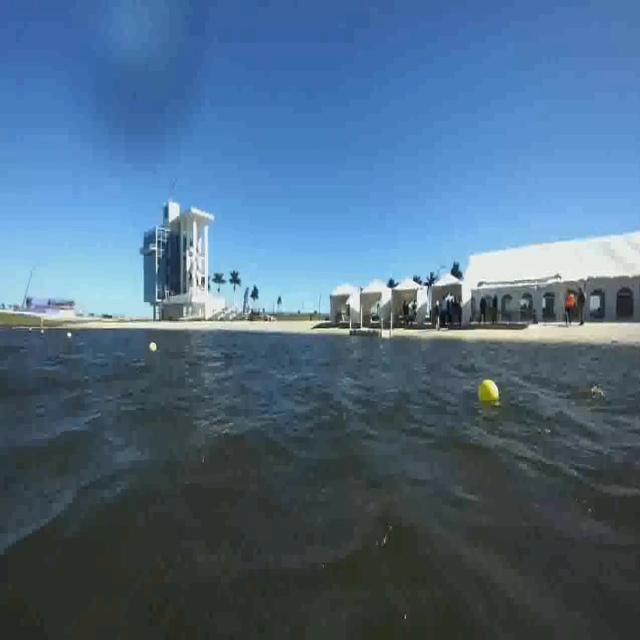yellow-buoy: (479, 377, 500, 402), (149, 341, 158, 355)
